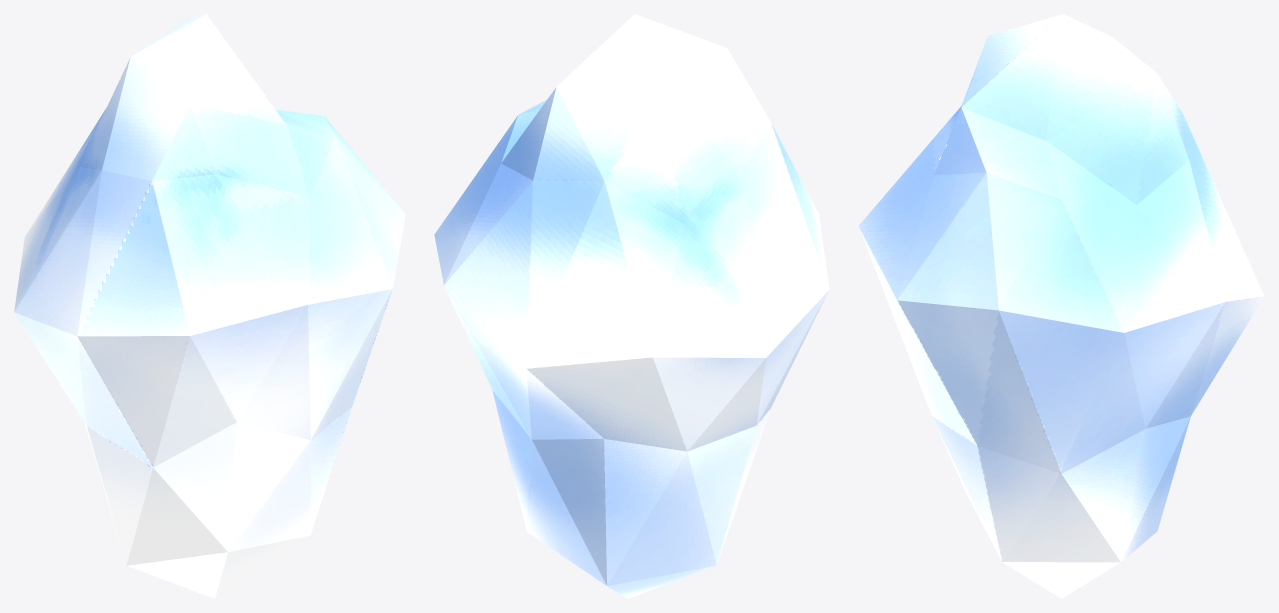
File: iceberg.glb
3 views of the same model, side by side, from view 1: azimuth 30°, elevation 25°; view 2: azimuth 150°, elevation 25°; view 3: azimuth 270°, elevation 25° (orthographic).
Visible parts, largest first — view 1: Iceberg; view 2: Iceberg; view 3: Iceberg.
Boxes of the visible parts, box(x1,y1,x2,y2) form: Iceberg: box(14, 14, 405, 598); Iceberg: box(434, 14, 829, 598); Iceberg: box(858, 14, 1264, 598).
Bounding box in the file's own units: 15.79 × 26.7 × 16.9.
1 material, 1 textured.
